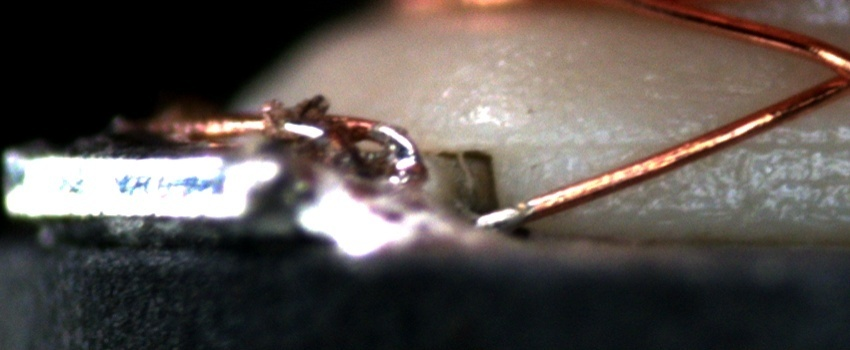CL: (802, 41, 850, 103)
DL: (494, 116, 850, 178)
TE: (164, 104, 438, 157)
